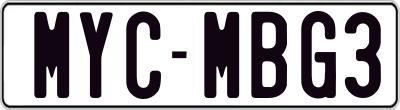3: (342, 11, 378, 99)
B: (248, 12, 285, 103)
C: (124, 9, 164, 96)
G: (301, 9, 336, 102)
M: (34, 10, 70, 100), (202, 10, 237, 99)
Y: (79, 12, 115, 102)
